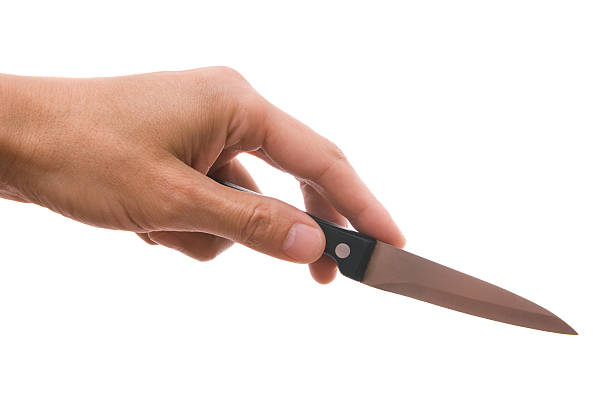knife: (219, 177, 582, 337)
